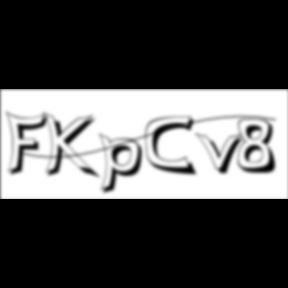8: (238, 117, 282, 176)
C: (145, 115, 200, 178)
F: (6, 110, 54, 178)
K: (44, 110, 102, 182)
p: (99, 132, 149, 198)
v: (196, 131, 250, 177)
